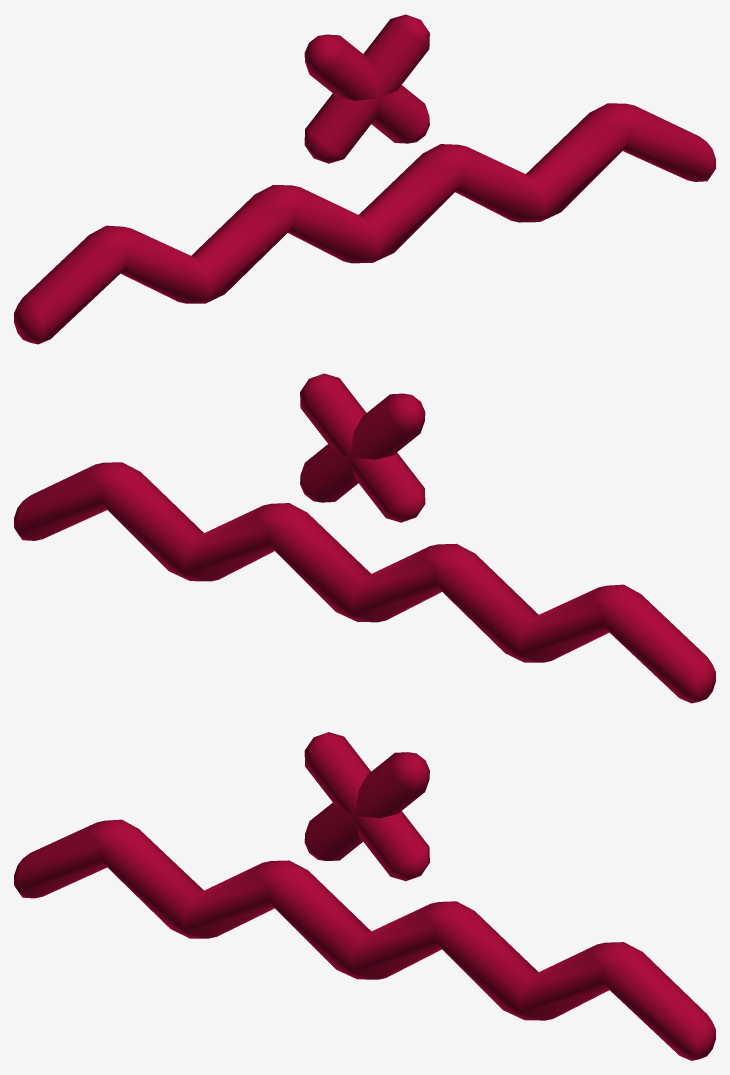
Rendered from Obstacle_check.fbx.
3 renders of one model, top to bottom at view 1: azimuth 30°, elevation 25°; view 2: azimuth 150°, elevation 25°; view 3: azimuth 330°, elevation 25°, orthographic.
Parts seen in each view (by area): view 1: gizagiza, batu; view 2: gizagiza, batu; view 3: gizagiza, batu.
Part boxes in pixels (x1,y1,x2,y2): gizagiza: [14, 103, 715, 344]; batu: [304, 14, 429, 163]; gizagiza: [14, 462, 715, 703]; batu: [300, 373, 425, 522]; gizagiza: [14, 819, 715, 1060]; batu: [304, 732, 429, 881].
Size of the model in its own units: 61.66 by 19.96 by 3.97.
